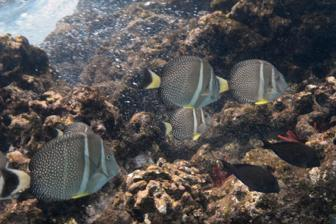Acanthuridae -Surgeonfishes-: (217, 157, 286, 197), (256, 133, 325, 170)
